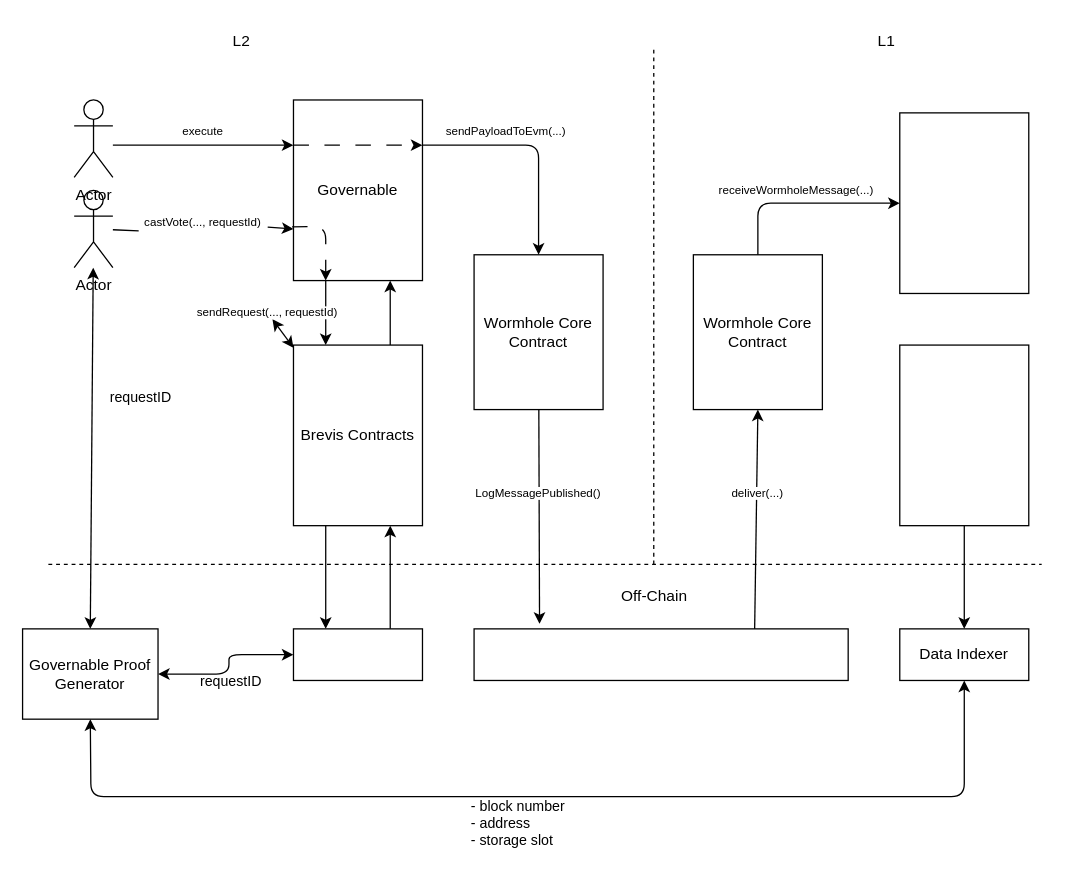
The diagram is 1066 pixels wide and 871 high, and some of its shapes have lost their labels. The centre of each missing label's shape, as x and y in pixels:
Brevis Service: [357,654]
ERC20: [963,435]
GovernableVault: [963,202]
Wormhole Guardian Network + Relayers: [660,654]
